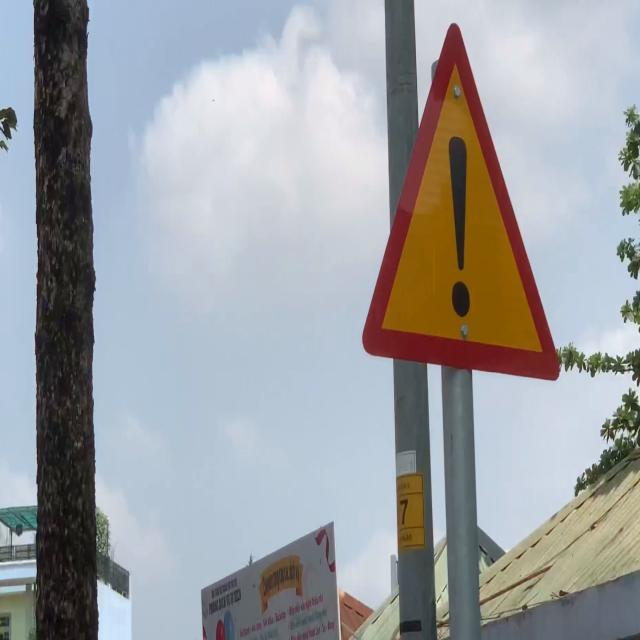Nguy hiem: (357, 18, 567, 393)
